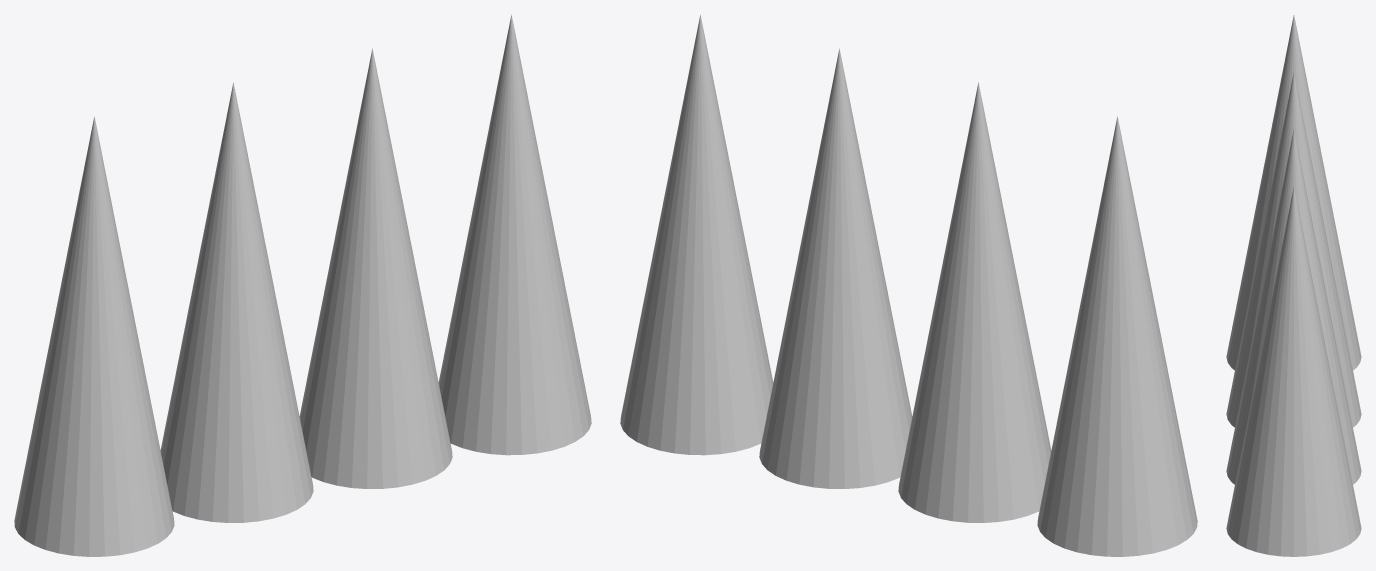
The model's file is Thorn.obj.
3 views of the same model, side by side, from view 1: azimuth 30°, elevation 25°; view 2: azimuth 150°, elevation 25°; view 3: azimuth 270°, elevation 25° (orthographic). The views are drawn at different scales.
Parts seen in each view (by area): view 1: Thorn; view 2: Thorn; view 3: Thorn.
Boxes of the visible parts, <box> form: Thorn: <box>14,14,591,556</box>; Thorn: <box>620,14,1197,556</box>; Thorn: <box>1226,15,1361,556</box>.
Size of the model in its own units: 1 by 0.7 by 0.25.
1 material, 1 textured.
